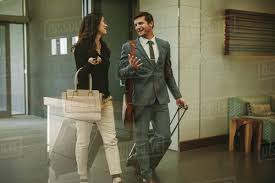Bad: (74, 12, 188, 108)
